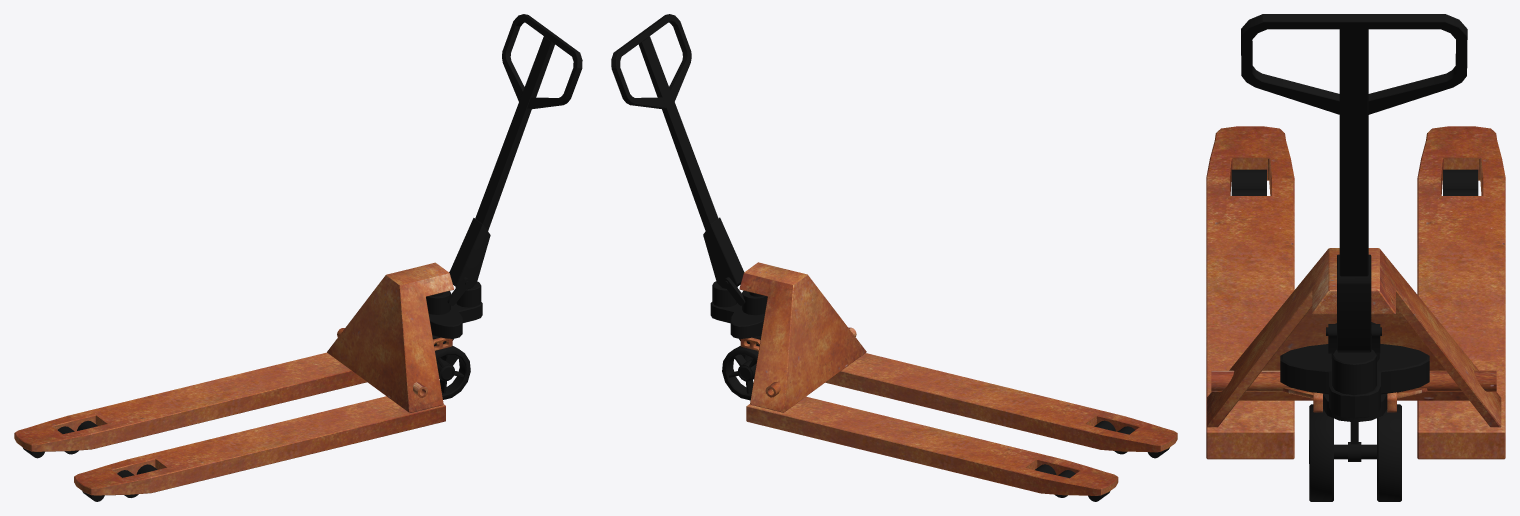
The model's file is truck.FBX.
The picture shows the model from 3 angles, left to right: view 1: azimuth 30°, elevation 25°; view 2: azimuth 150°, elevation 25°; view 3: azimuth 270°, elevation 25°; orthographic projection. The views are drawn at different scales.
Visible parts, largest first — view 1: Box1800, Box1799, Box1797, Box1798, Cylinder215, Cylinder224; view 2: Box1799, Box1800, Box1797, Box1798, Cylinder215, Cylinder224; view 3: Box1799, Box1800, Box1798, Box1797, Cylinder224, Cylinder215, Tube050, Cylinder226, Cylinder221, Cylinder216, Cylinder225, Tube051 (+2 smaller).
Boxes of the visible parts, left/top/right/bottom form: Box1800: left=74, top=396, right=445, bottom=495; Box1799: left=14, top=352, right=366, bottom=451; Box1797: left=327, top=262, right=453, bottom=412; Box1798: left=449, top=14, right=582, bottom=289; Cylinder215: left=435, top=345, right=470, bottom=399; Cylinder224: left=428, top=302, right=482, bottom=338; Box1799: left=746, top=396, right=1118, bottom=495; Box1800: left=825, top=353, right=1177, bottom=452; Box1797: left=739, top=262, right=866, bottom=412; Box1798: left=611, top=14, right=744, bottom=288; Cylinder215: left=722, top=346, right=758, bottom=400; Cylinder224: left=710, top=302, right=764, bottom=338; Box1799: left=1417, top=126, right=1505, bottom=459; Box1800: left=1206, top=126, right=1294, bottom=459; Box1798: left=1241, top=14, right=1467, bottom=352; Box1797: left=1207, top=248, right=1501, bottom=427; Cylinder224: left=1280, top=344, right=1429, bottom=418; Cylinder215: left=1309, top=404, right=1401, bottom=501; Tube050: left=1211, top=370, right=1496, bottom=391; Cylinder226: left=1332, top=349, right=1376, bottom=395; Cylinder221: left=1231, top=169, right=1266, bottom=189; Cylinder216: left=1443, top=169, right=1478, bottom=189; Cylinder225: left=1323, top=393, right=1387, bottom=422; Tube051: left=1348, top=422, right=1361, bottom=461.
Size of the model in its own units: 180 by 113 by 52.48.
2 materials, 1 textured.
